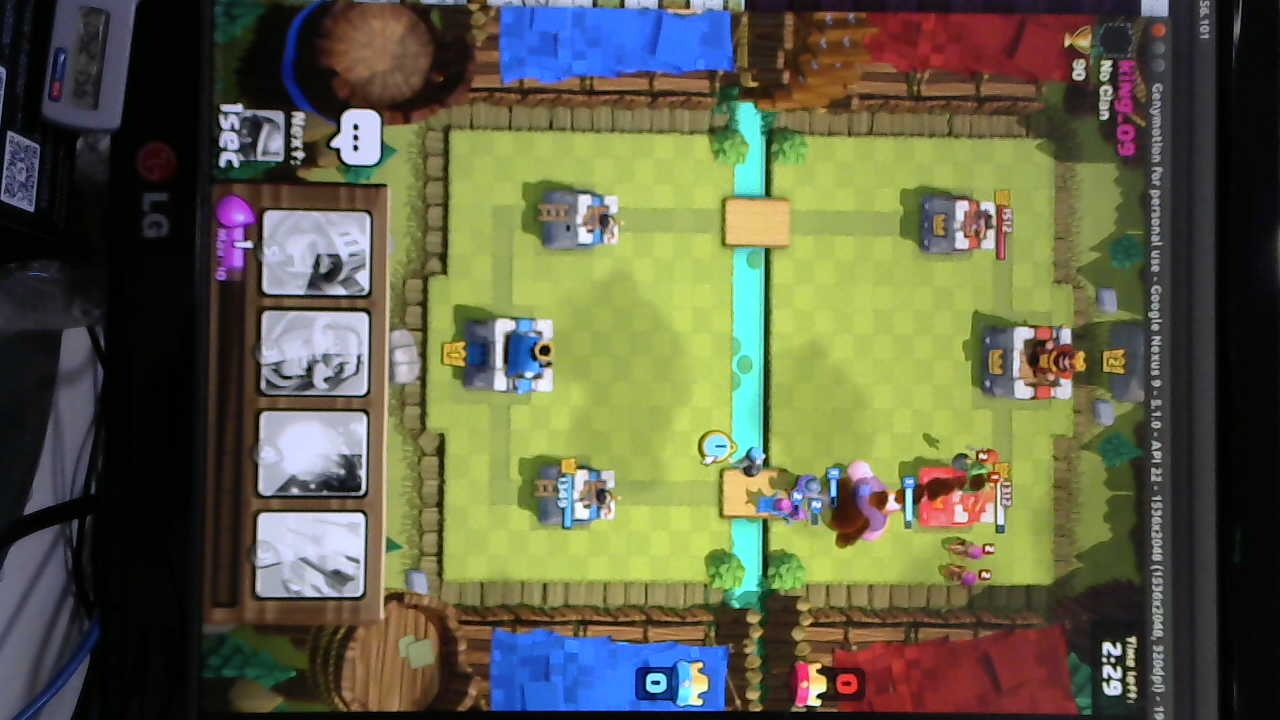archers: (745, 491, 829, 534), (941, 529, 988, 591)
arena: (542, 462, 621, 524), (542, 192, 626, 248)
bomb: (726, 442, 771, 480), (950, 444, 1000, 475)
dragon: (946, 457, 1005, 499)
earena: (920, 194, 1000, 257), (921, 465, 997, 531)
eking: (975, 317, 1079, 405)
giant: (842, 457, 905, 545)
king: (453, 313, 561, 394)
musketeer: (788, 468, 832, 499)
